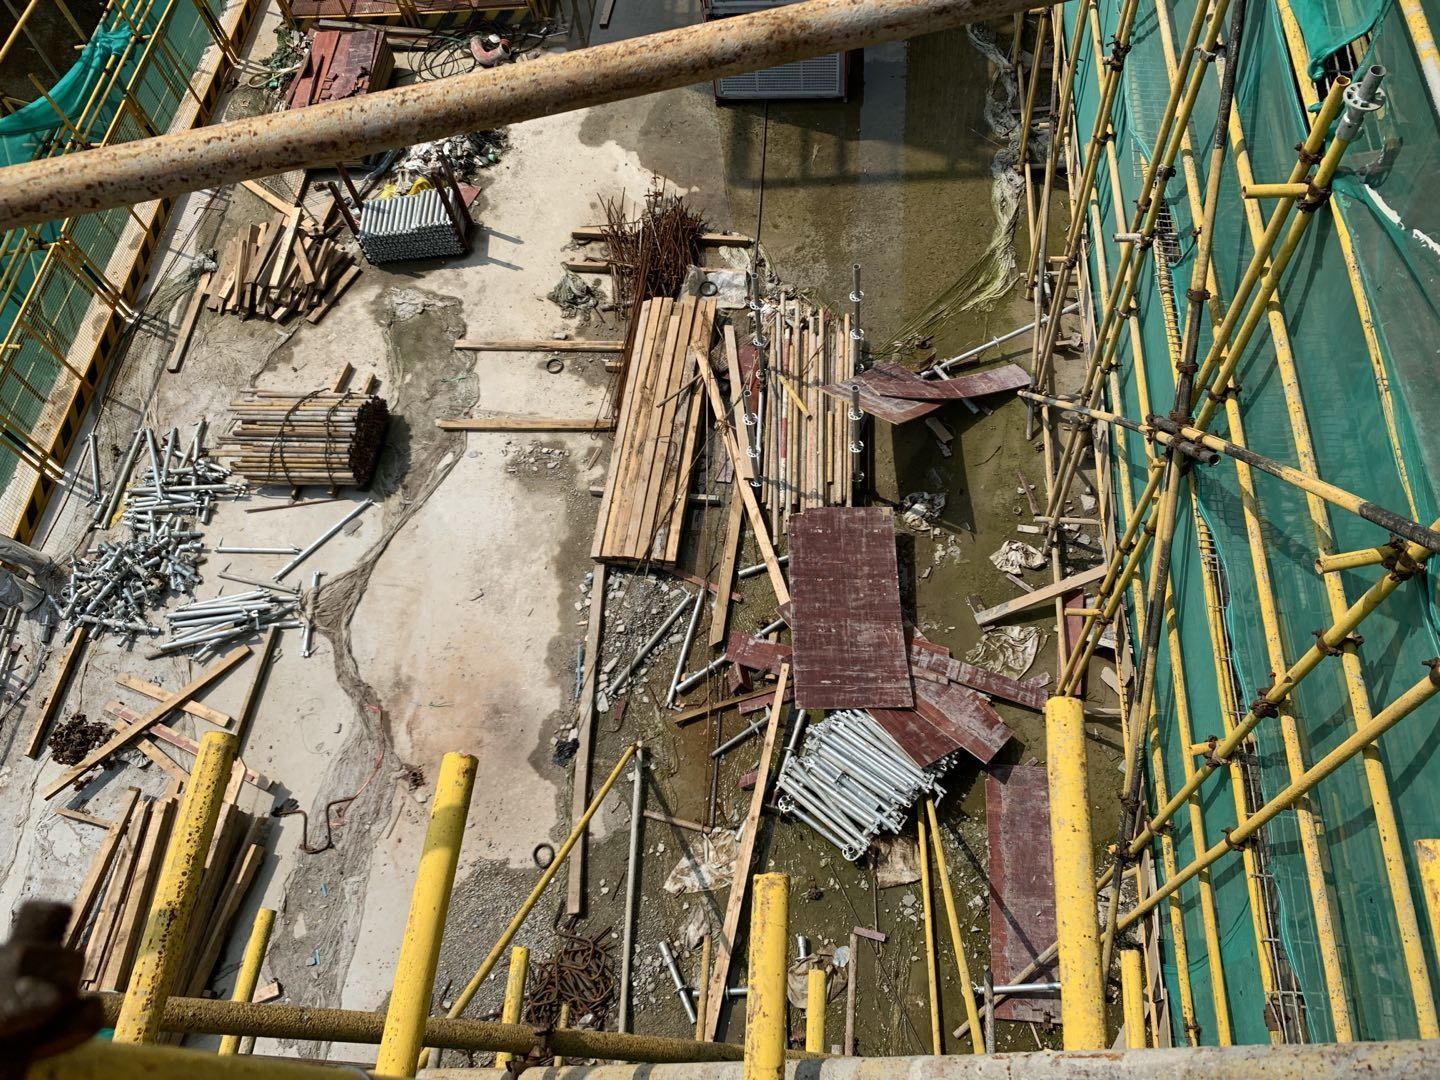rebar: (220, 387, 386, 493)
scaffold: (778, 709, 945, 853), (359, 189, 466, 267)
wood: (625, 289, 719, 569), (54, 796, 164, 952), (225, 211, 344, 314)
